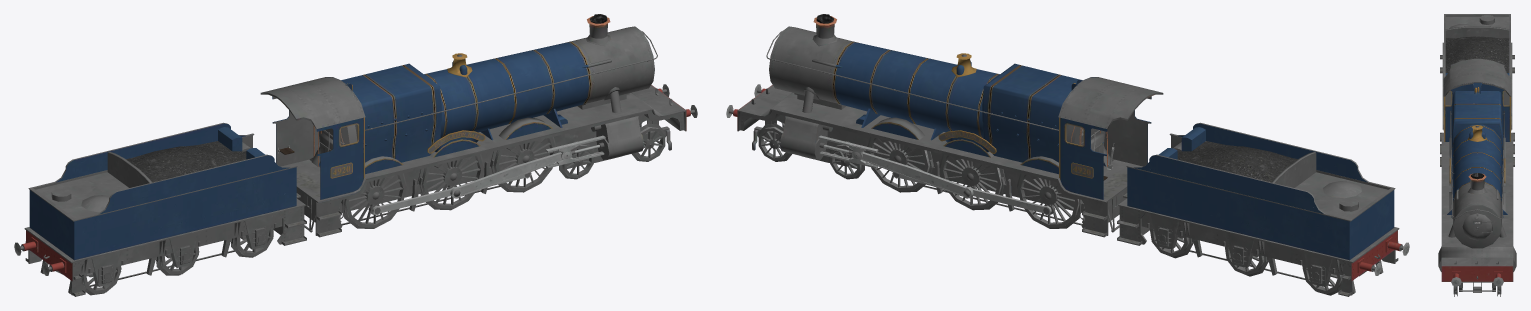
File: loco-4920.glb
3 renders of one model, left to right at view 1: azimuth 30°, elevation 25°; view 2: azimuth 150°, elevation 25°; view 3: azimuth 270°, elevation 25°, orthographic. The views are drawn at different scales.
Visible parts, largest first — view 1: Object_4, Object_42, Object_44; view 2: Object_4, Object_42, Object_44; view 3: Object_4, Object_42, Object_44, Object_26.
Boxes of the visible parts, <box> form: Object_4: <box>260,14,697,237</box>; Object_42: <box>14,122,306,296</box>; Object_44: <box>126,141,246,182</box>; Object_4: <box>726,14,1163,237</box>; Object_42: <box>1117,122,1409,296</box>; Object_44: <box>1177,141,1297,182</box>; Object_4: <box>1438,58,1516,296</box>; Object_42: <box>1440,14,1514,144</box>; Object_44: <box>1445,36,1509,72</box>; Object_26: <box>1445,91,1509,105</box>.
Size of the model in its own units: 19.46 by 4.1 by 2.71.
Materials: 4 (3 with a texture image).
